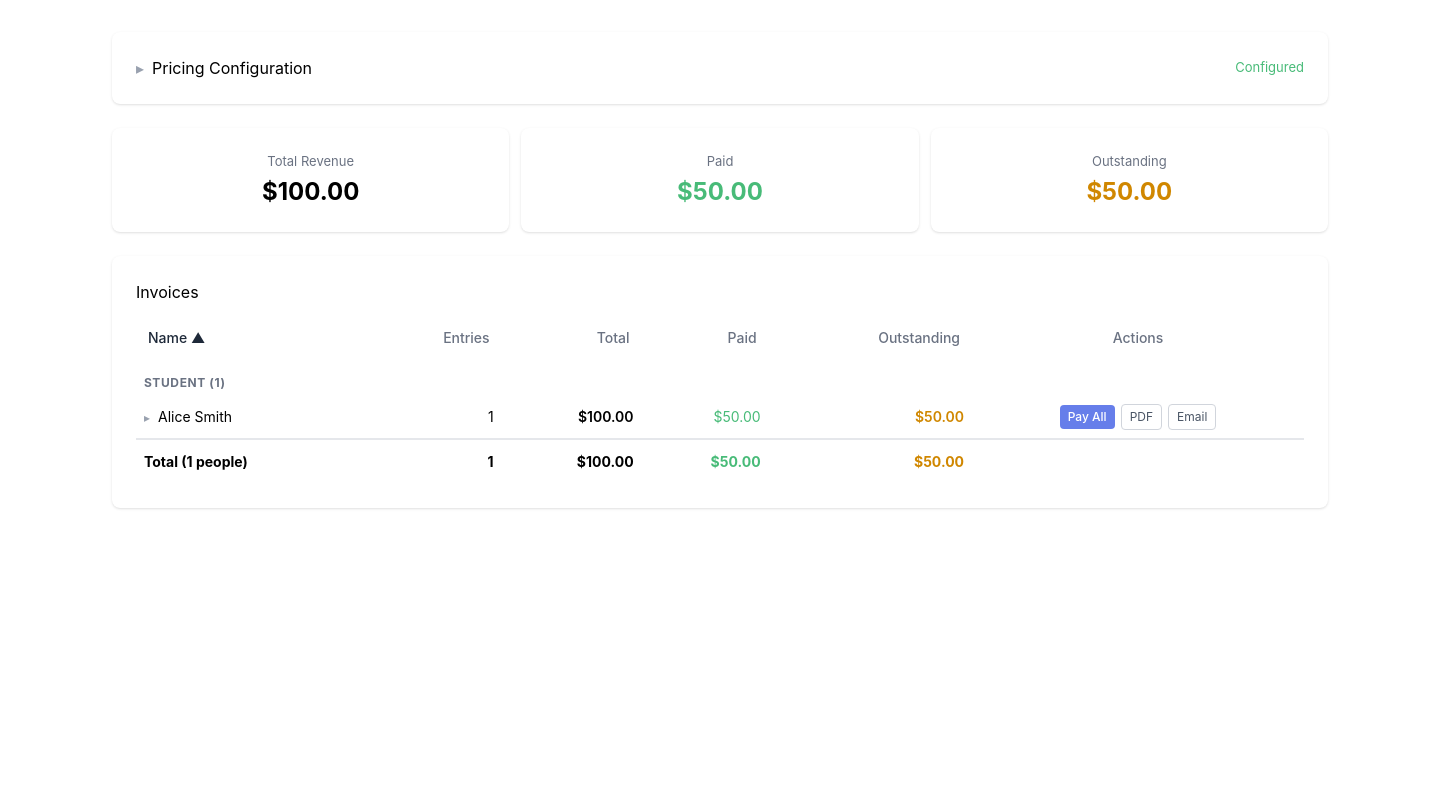
Scenario: InvoicesPage › should expand pricing configuration section on click
Check: the heading "▸Pricing Configuration" is shown, box [136,56,312,80]
Check: the text "Single Dance" is not shown
# Click the header to expand
Click the text "Pricing Configuration" at [232, 68], box [136,56,1304,80]
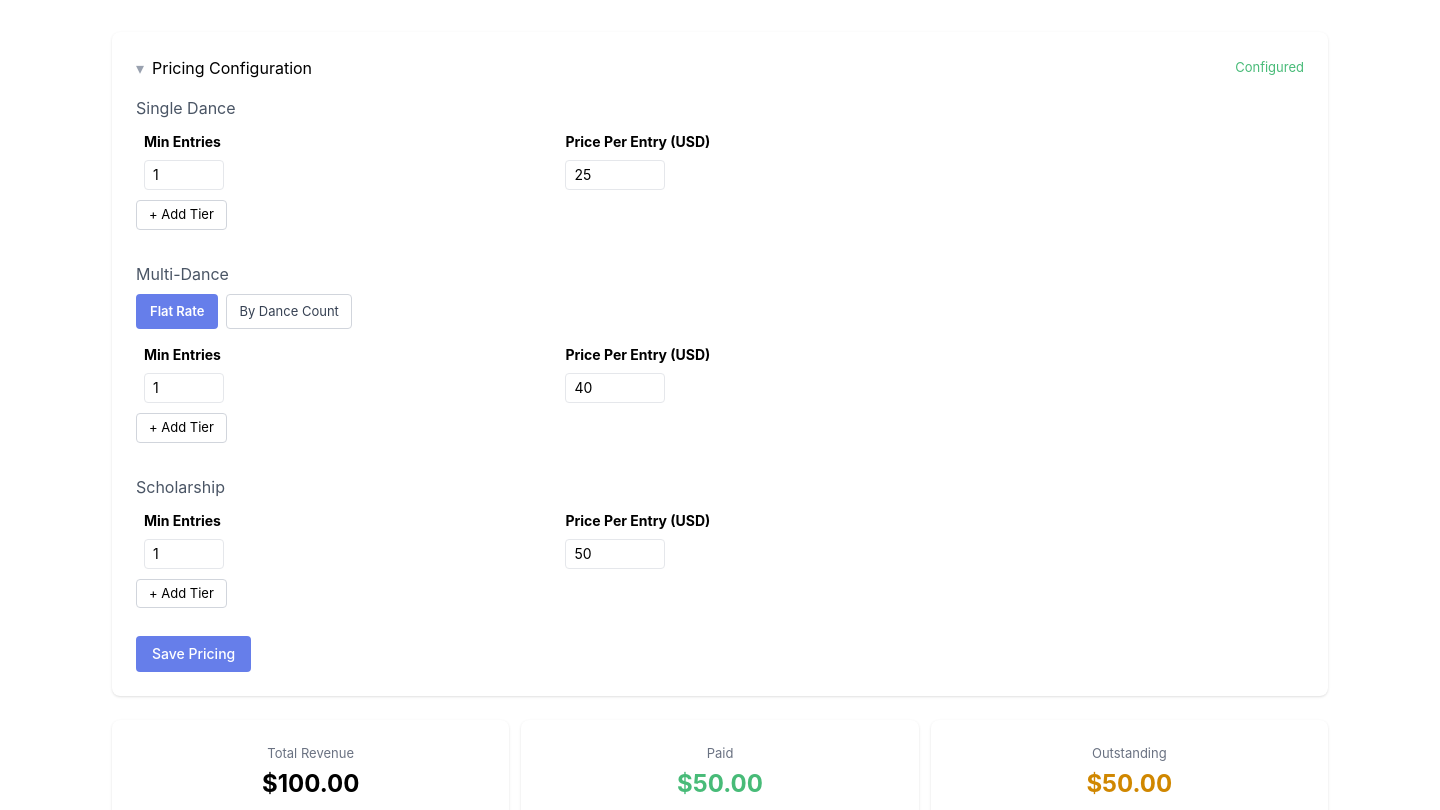
Check: the heading "Single Dance" is shown, box [136,98,236,118]
Check: the heading "Multi-Dance" is shown, box [136,264,229,284]
Check: the heading "Scholarship" is shown, box [136,476,225,496]
